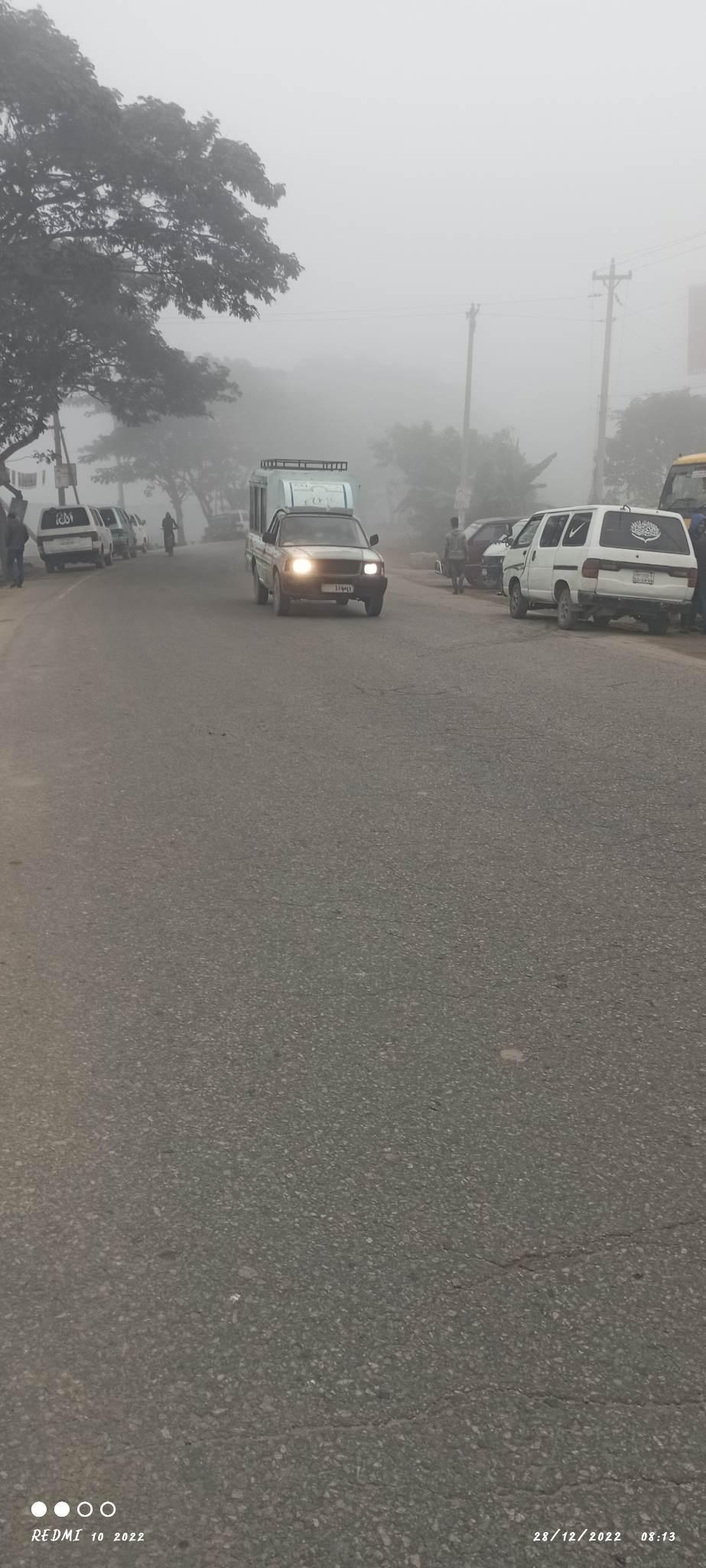Car: (501, 489, 699, 655), (237, 439, 399, 627), (28, 489, 115, 577)
